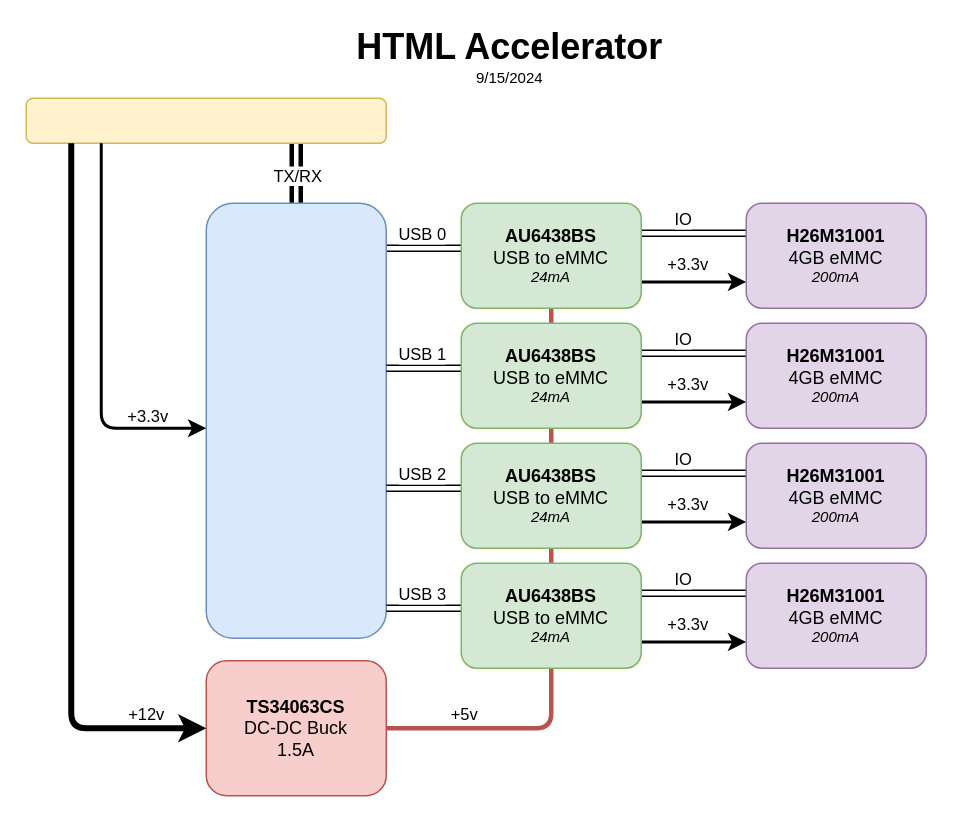
Image size: 953x822. Some labels were removed from this diagram. The shapes that lost their labels are listed below. From the top down, each one's box as (x1, y1, x2, y2) in pixels, then its label:
(25, 97, 386, 143): PCIe Slot
(205, 202, 386, 638): MCS9990 PCIe x4 USB Host
